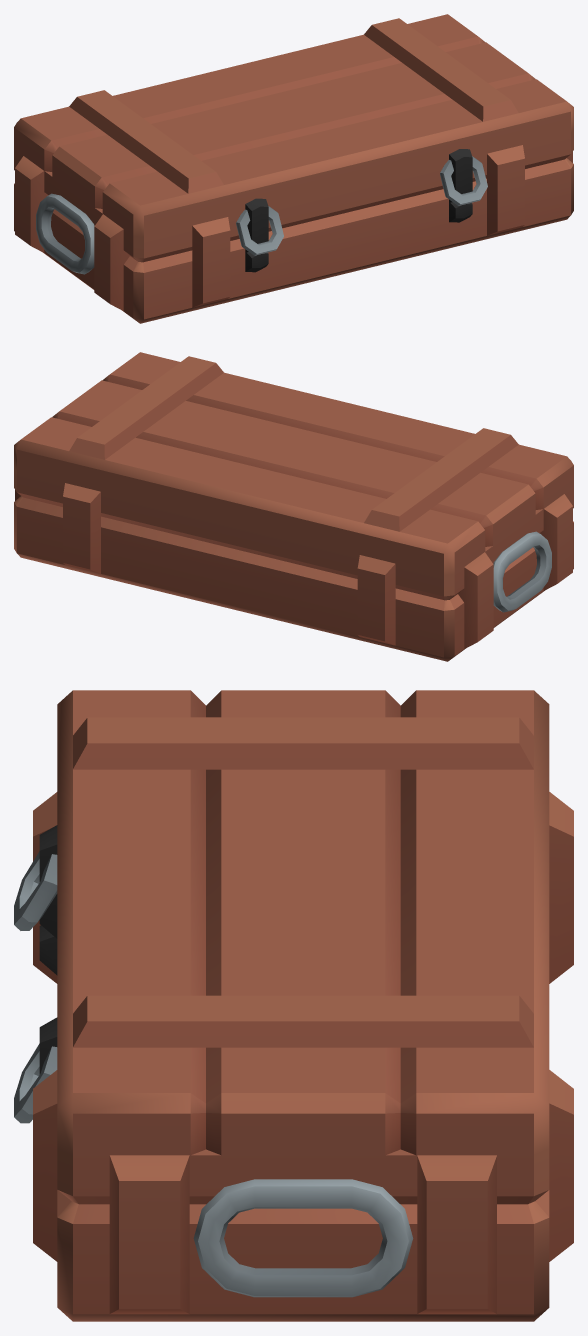
Rendered from prop_crate_medium.glb.
3 renders of one model, top to bottom at view 1: azimuth 30°, elevation 25°; view 2: azimuth 150°, elevation 25°; view 3: azimuth 270°, elevation 25°, orthographic. The views are drawn at different scales.
Visible parts, largest first — view 1: Containers_Crate_Medium_Wood; view 2: Containers_Crate_Medium_Wood; view 3: Containers_Crate_Medium_Wood.
Part boxes in pixels (<box>): Containers_Crate_Medium_Wood: <box>14,14,573,323</box>; Containers_Crate_Medium_Wood: <box>14,352,573,661</box>; Containers_Crate_Medium_Wood: <box>14,690,573,1321</box>.
Bounding box in the file's own units: 1.71 × 0.45 × 0.9107.
1 material, 1 textured.
